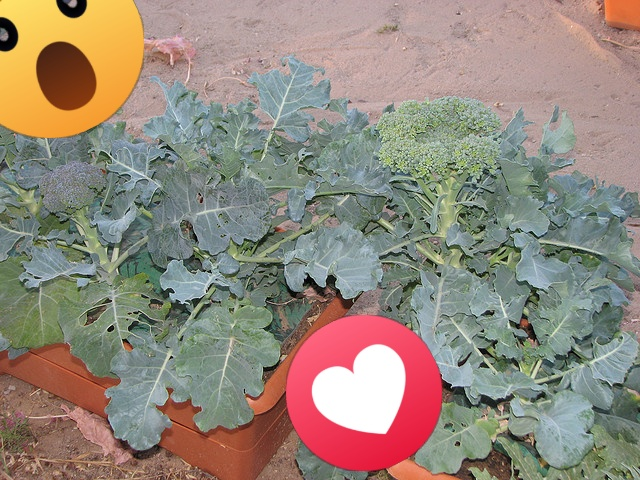love: (286, 315, 442, 471)
wow: (0, 0, 144, 138)
